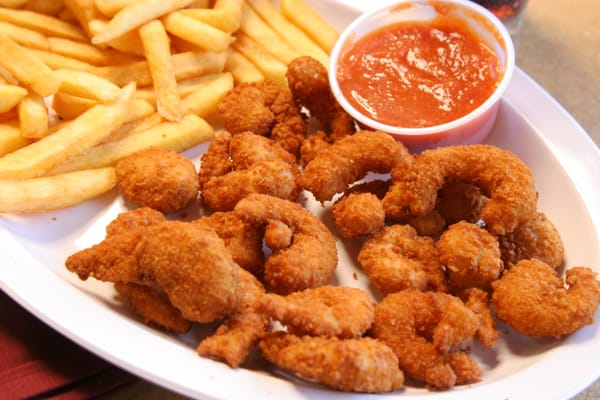sushi: (328, 0, 515, 152)
